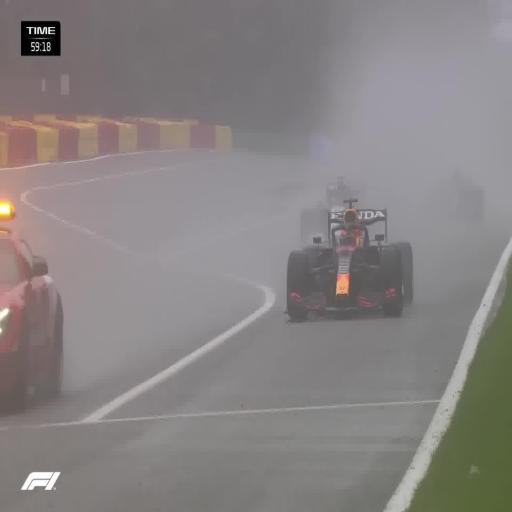f1_car: (286, 198, 413, 319), (0, 203, 63, 410)
